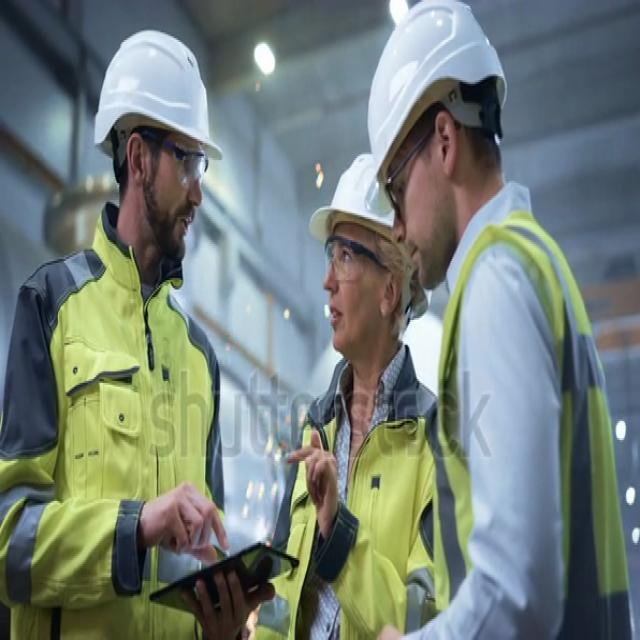Glasses: (128, 126, 210, 188), (386, 122, 438, 213), (316, 231, 389, 289)
Helmet: (363, 0, 507, 198), (85, 22, 226, 160), (310, 150, 401, 236)
Vest: (3, 248, 228, 640), (433, 210, 628, 640), (258, 362, 434, 640)
